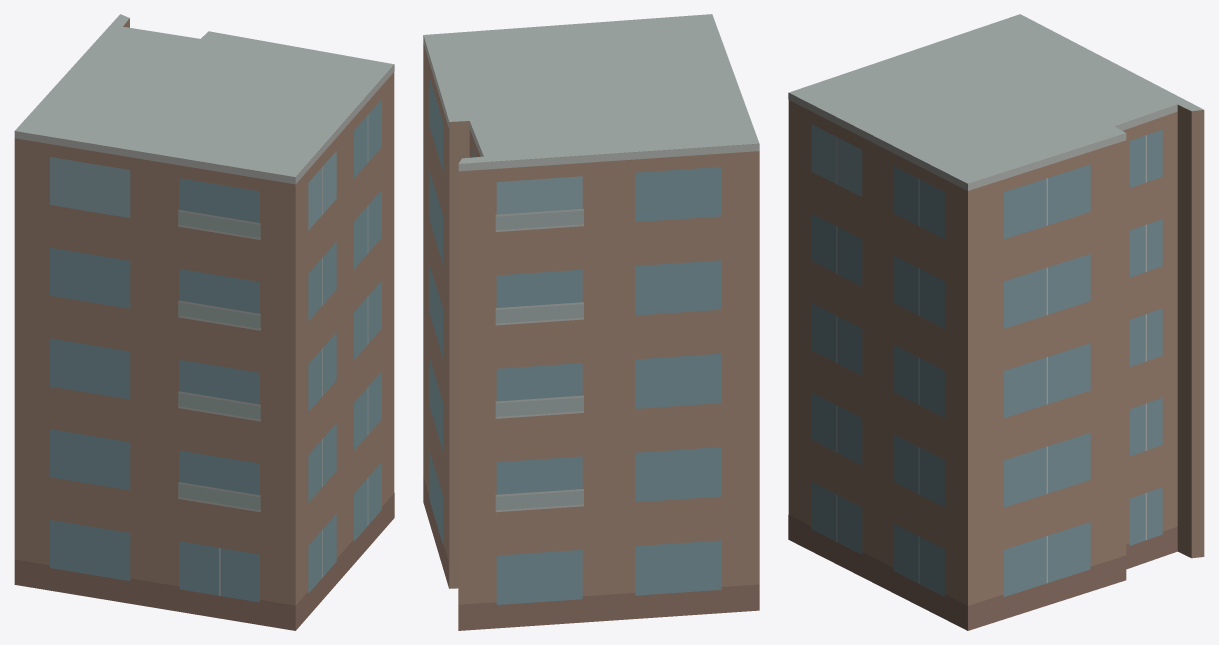
File: survey-upis-33035248.glb
The picture shows the model from 3 angles, left to right: view 1: azimuth 30°, elevation 25°; view 2: azimuth 150°, elevation 25°; view 3: azimuth 270°, elevation 25°; orthographic projection. The views are drawn at different scales.
Visible parts, largest first — view 1: survey-upis-33035248.tmp; view 2: survey-upis-33035248.tmp; view 3: survey-upis-33035248.tmp.
Part boxes in pixels (box(x1,y1,x2,y2)): survey-upis-33035248.tmp: box(14, 14, 394, 630); survey-upis-33035248.tmp: box(423, 14, 759, 630); survey-upis-33035248.tmp: box(788, 14, 1204, 630).
Size of the model in its own units: 12.43 by 15.25 by 12.86.
